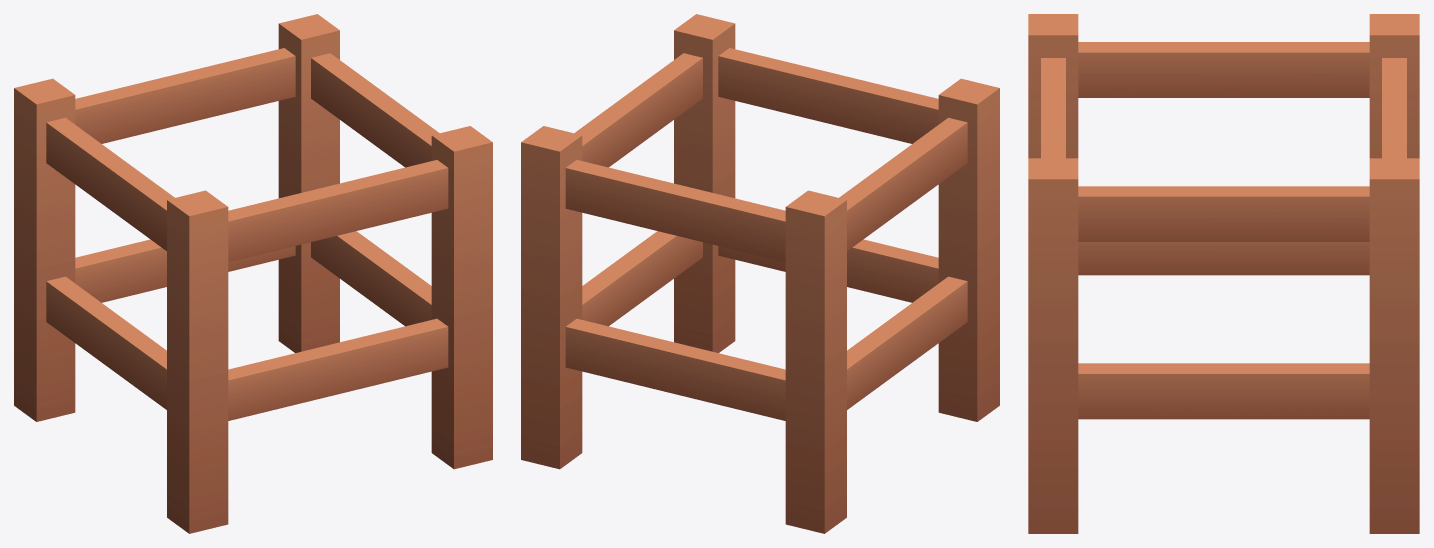
The model's file is kenney-tower-defense-wood-structure-high.glb.
3 views of the same model, side by side, from view 1: azimuth 30°, elevation 25°; view 2: azimuth 150°, elevation 25°; view 3: azimuth 270°, elevation 25° (orthographic). The views are drawn at different scales.
Parts seen in each view (by area): view 1: wood-structure-high; view 2: wood-structure-high; view 3: wood-structure-high.
Part boxes in pixels (x1,y1,x2,y2): wood-structure-high: (14, 14, 492, 533); wood-structure-high: (521, 14, 999, 533); wood-structure-high: (1028, 14, 1419, 533).
Size of the model in its own units: 1 by 1 by 1.
1 material, 1 textured.
